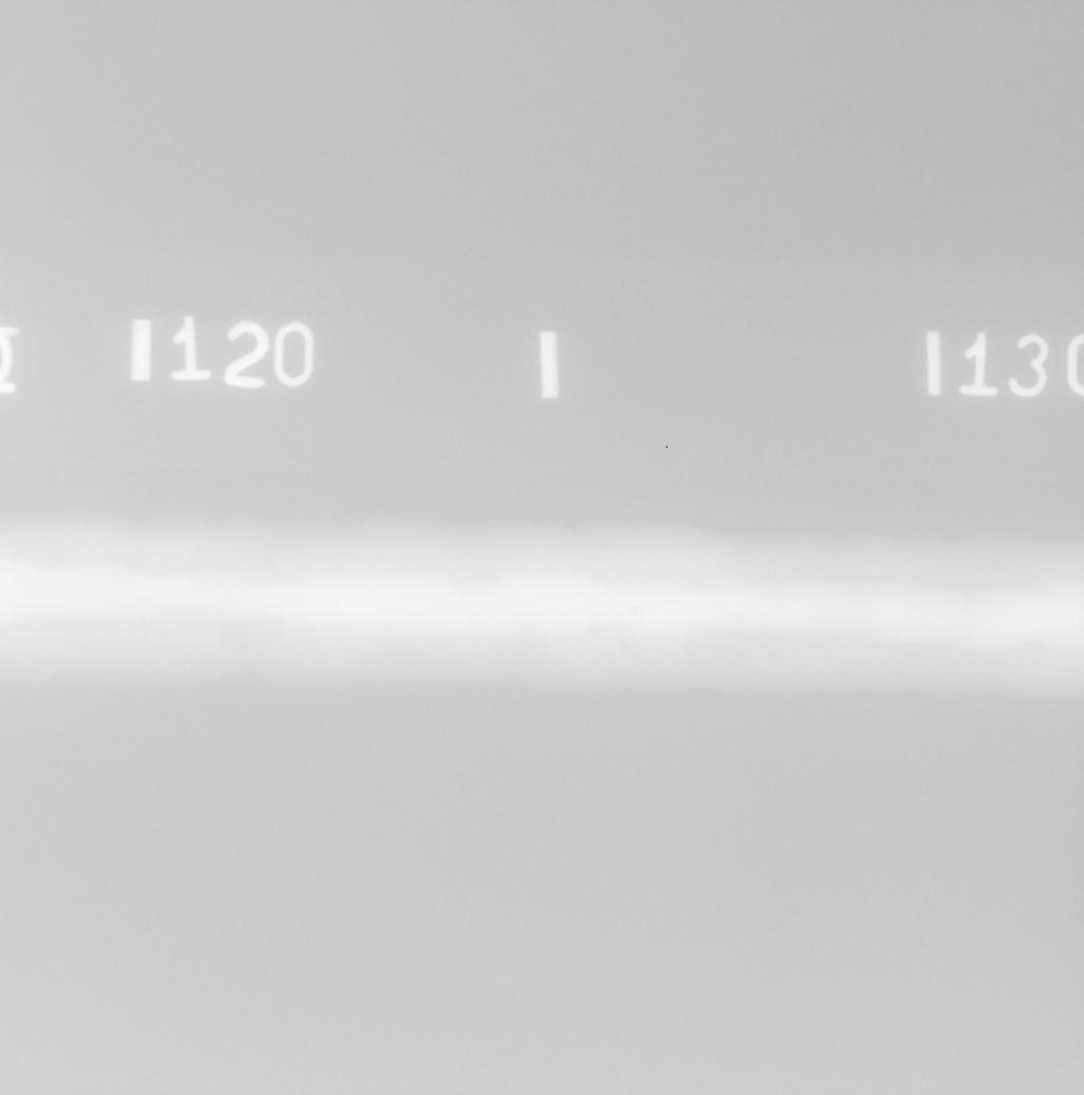Inclusion: (505, 617, 524, 625), (575, 649, 584, 660)
Pore/Porosity: (628, 604, 641, 616), (963, 595, 973, 604), (778, 603, 787, 609)
